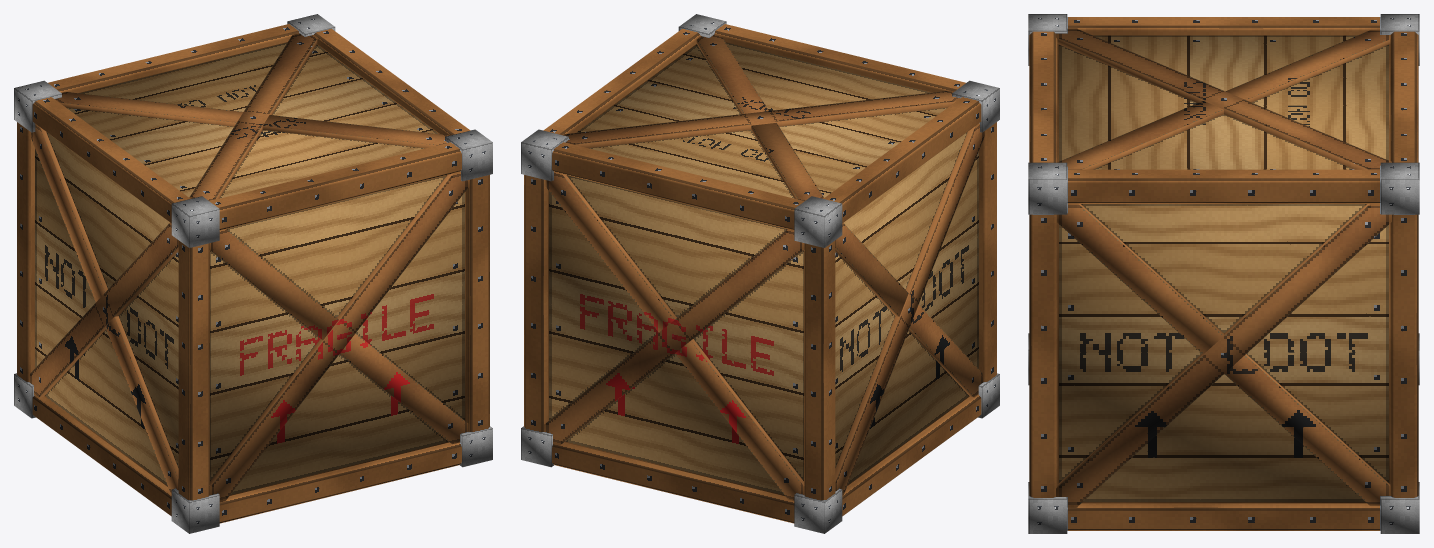
The model's file is p_crate.glb.
3 renders of one model, left to right at view 1: azimuth 30°, elevation 25°; view 2: azimuth 150°, elevation 25°; view 3: azimuth 270°, elevation 25°, orthographic. The views are drawn at different scales.
Parts seen in each view (by area): view 1: crate_lod0; view 2: crate_lod0; view 3: crate_lod0.
Part boxes in pixels (<box>): crate_lod0: <box>14,14,492,533</box>; crate_lod0: <box>521,14,999,533</box>; crate_lod0: <box>1028,14,1419,533</box>.
Size of what is drawn, in the model's own units: 1.2 by 1.2 by 1.2.
2 materials, 2 textured.
